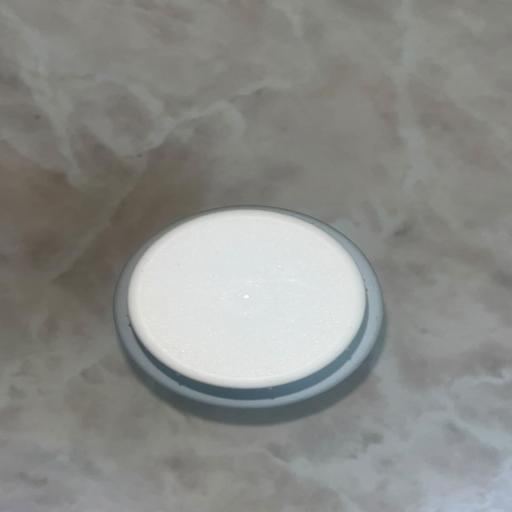HDPE: (60, 68, 486, 489)
